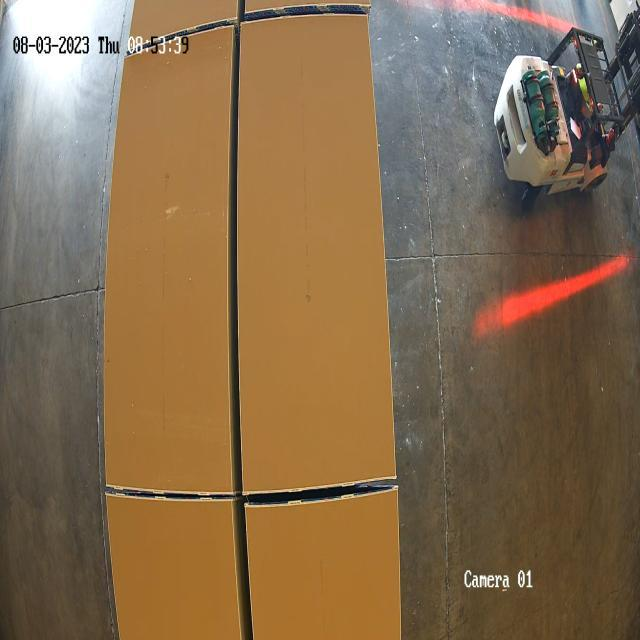forklift: (491, 10, 640, 212)
